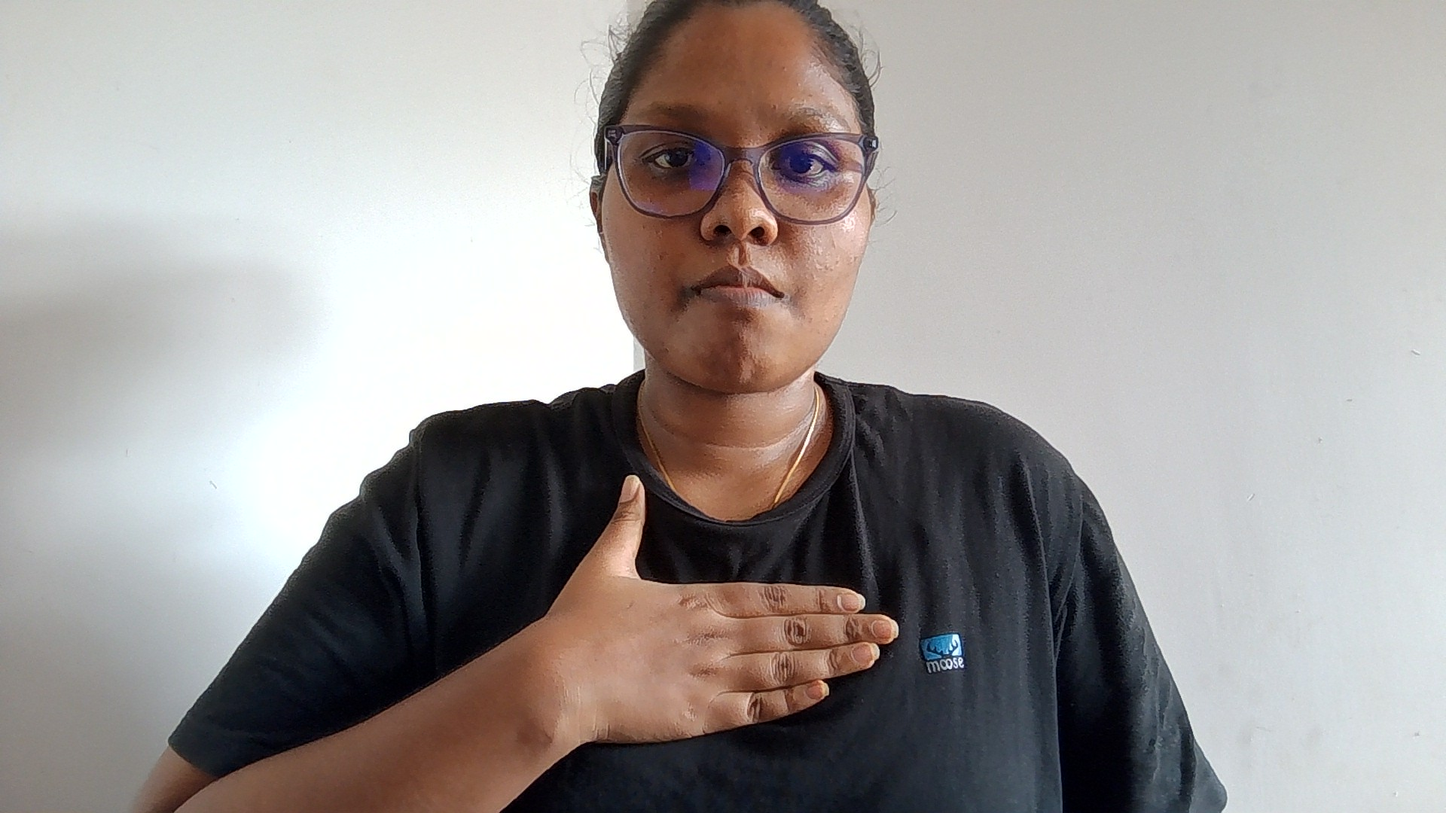Please: (552, 449, 896, 804)
